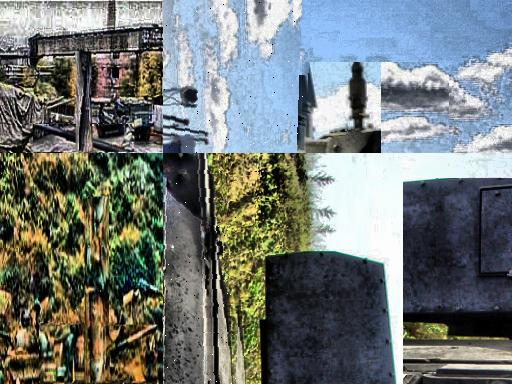tanks: (261, 254, 393, 384), (164, 154, 238, 384), (85, 201, 107, 384), (80, 54, 90, 153), (1, 290, 12, 323), (1, 149, 16, 154)
